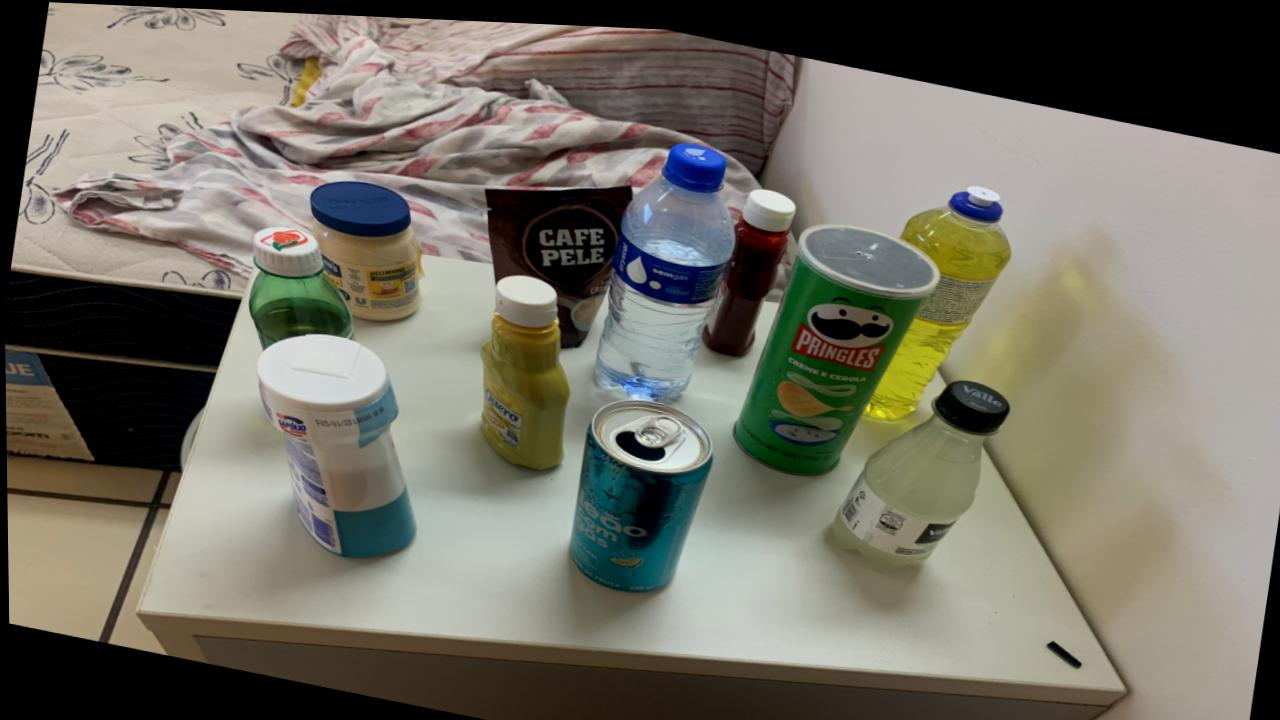Cleaner-Cleanup_Items: (255, 330, 415, 554)
Coffee-Pantry_Items: (484, 180, 632, 342)
Detergent-Cleanup_Items: (865, 176, 1011, 411)
Guarana-Drinks: (247, 223, 353, 345)
Ketchup-Pantry_Items: (702, 181, 795, 350)
Mayonnaise-Pantry_Items: (309, 177, 422, 317)
Mustard-Pantry_Items: (479, 270, 570, 464)
Pringles-Snacks: (732, 216, 939, 467)
Soda-Drinks: (830, 371, 1009, 562)
Tea-Drinks: (567, 393, 712, 586)
Water_Bottle-Drinks: (594, 136, 735, 393)
